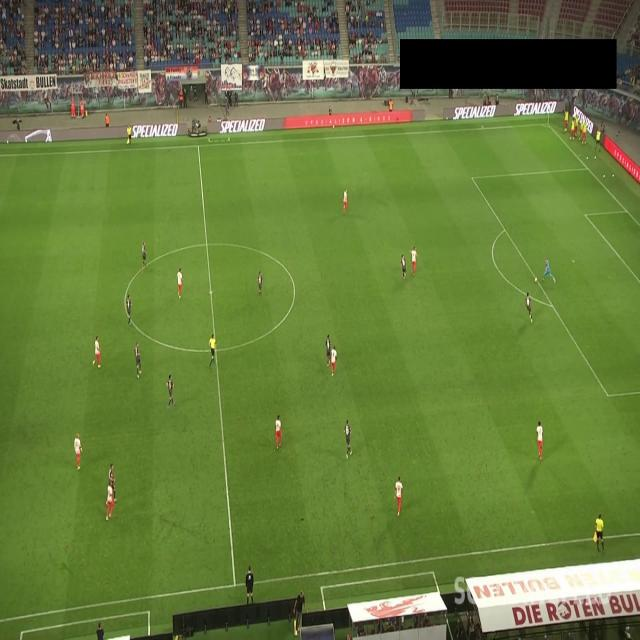ball: (534, 276, 538, 284)
player: (541, 255, 557, 289), (392, 474, 403, 520), (72, 431, 84, 470), (133, 341, 144, 382), (109, 461, 118, 505), (165, 372, 175, 410), (408, 246, 419, 279), (106, 485, 115, 525), (274, 414, 284, 450), (535, 420, 543, 464), (344, 420, 352, 460), (94, 336, 102, 372), (330, 345, 338, 380), (525, 292, 533, 326), (125, 292, 132, 330), (177, 266, 184, 304), (325, 334, 333, 364), (341, 189, 350, 215), (141, 240, 148, 271), (257, 269, 264, 300), (400, 254, 407, 284)
